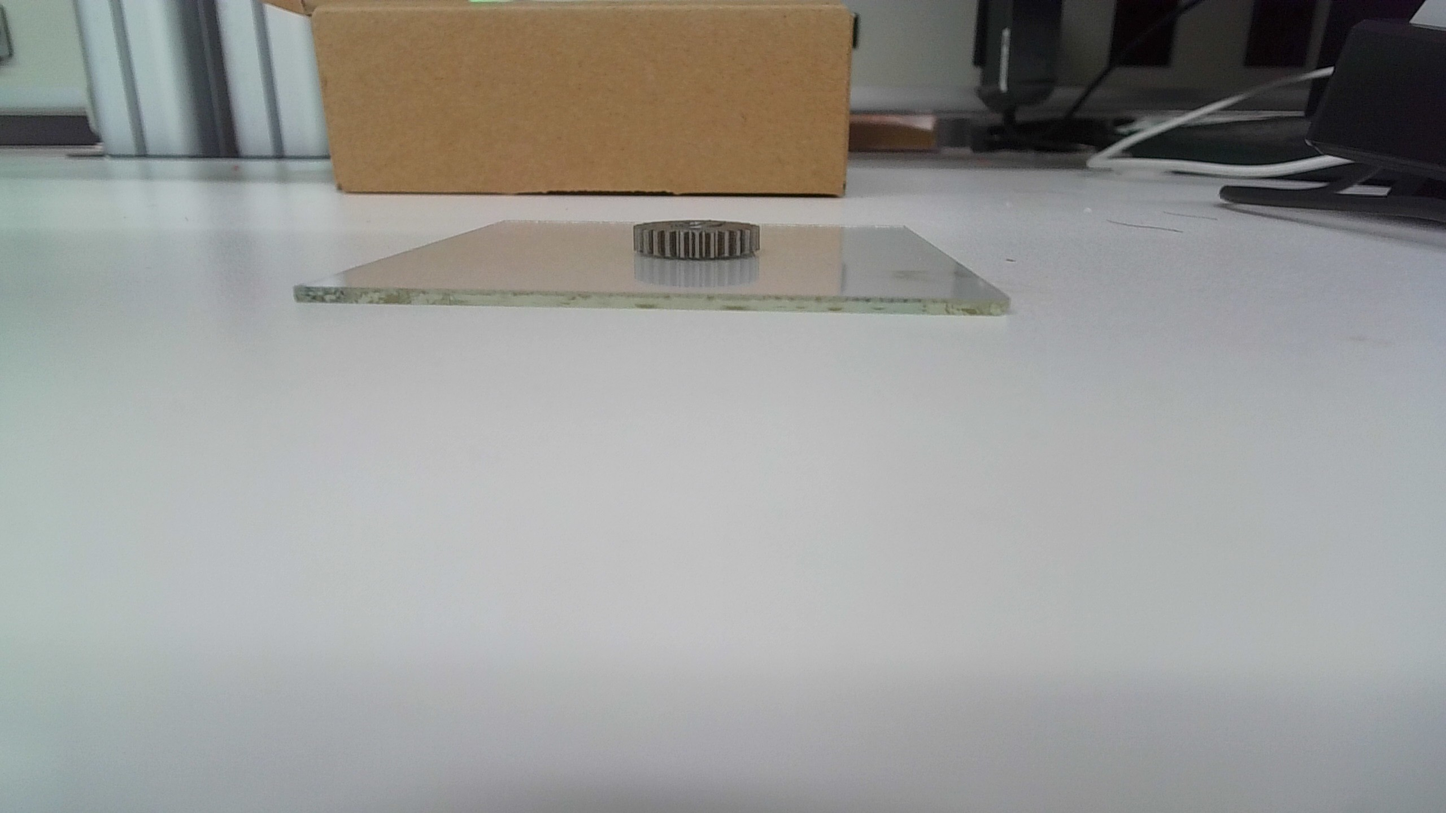gear: (630, 220, 764, 263)
